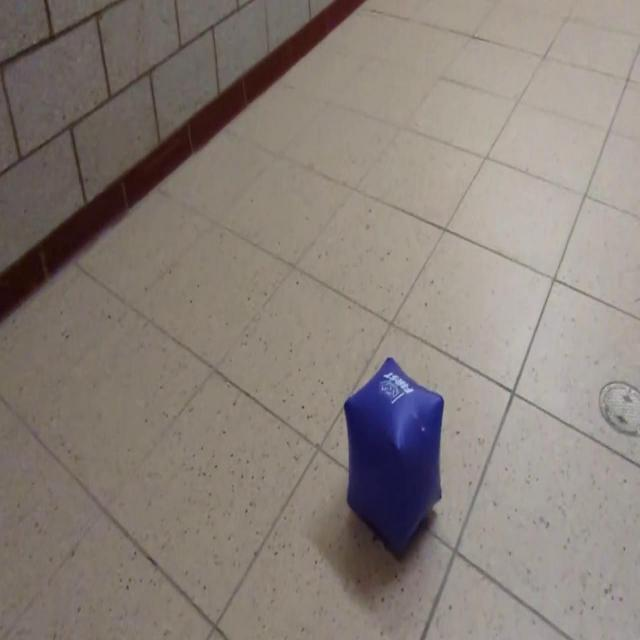frc_cube: (337, 355, 445, 552)
